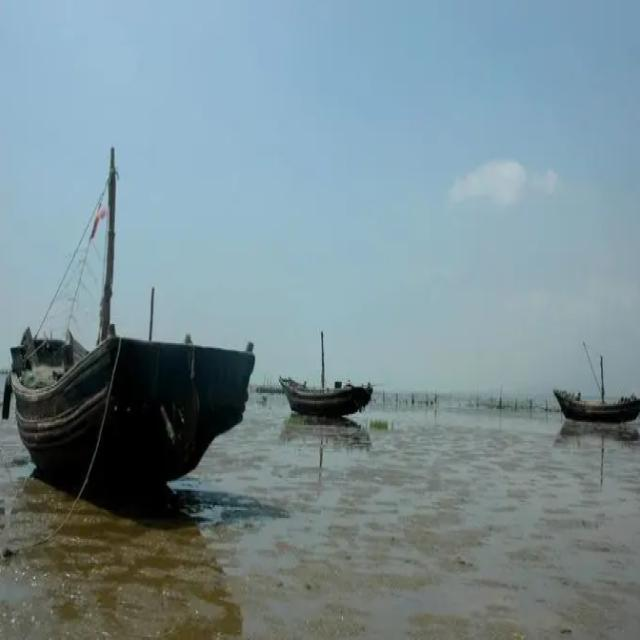fishing boat: (12, 144, 250, 496), (279, 318, 369, 418), (554, 335, 640, 430)
